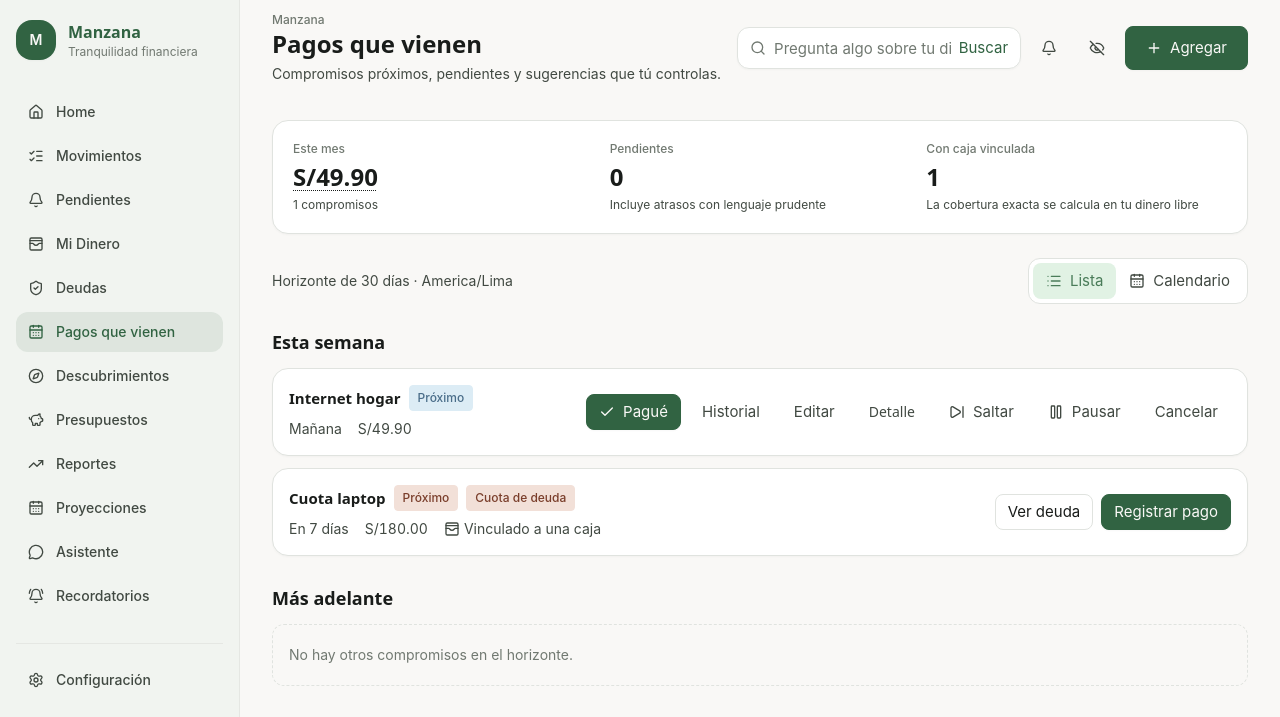
Test case: UpcomingScreen W-11 › ofrece una tabla equivalente en la vista calendario
Click the button "Calendario".
click(1180, 281)  # box [1116,263,1243,299]
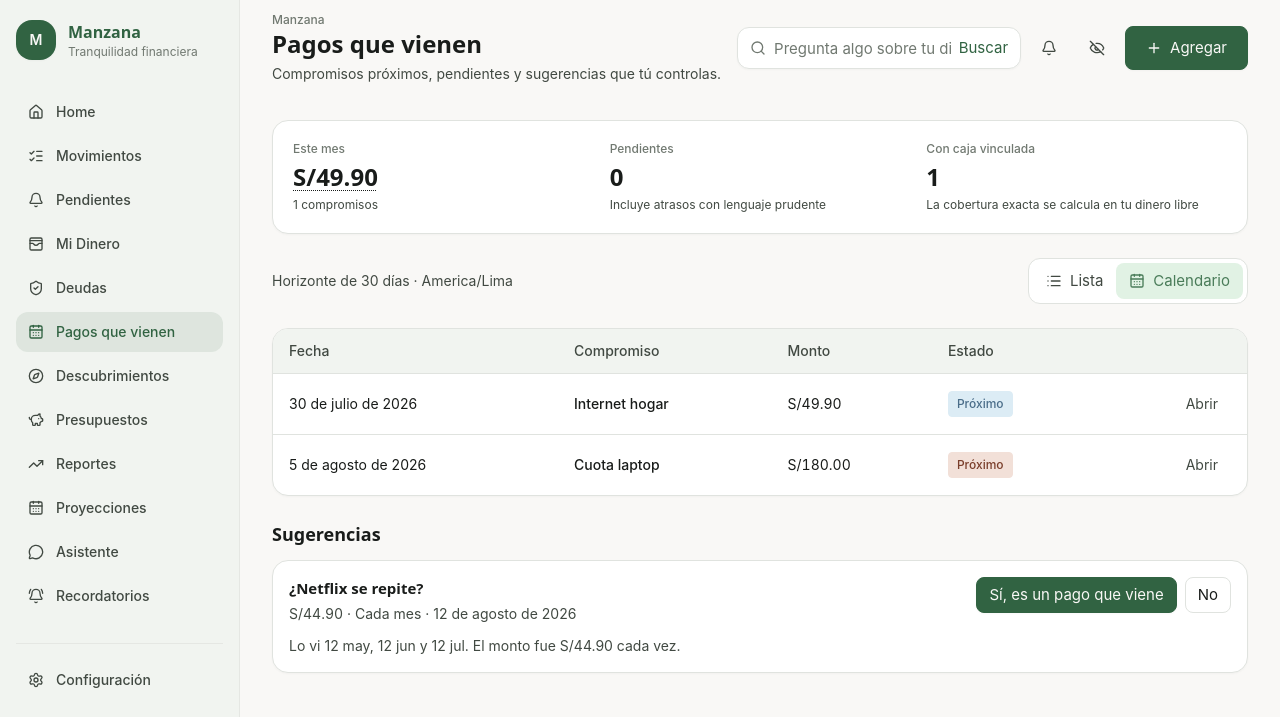
Expected: the column heading "Compromiso" is shown, [558,329,772,374]
Result: the table named "Calendario accesible de compromisos" is shown at [273,329,1247,495]
Result: the column heading "Fecha" is shown at [273,329,558,374]
